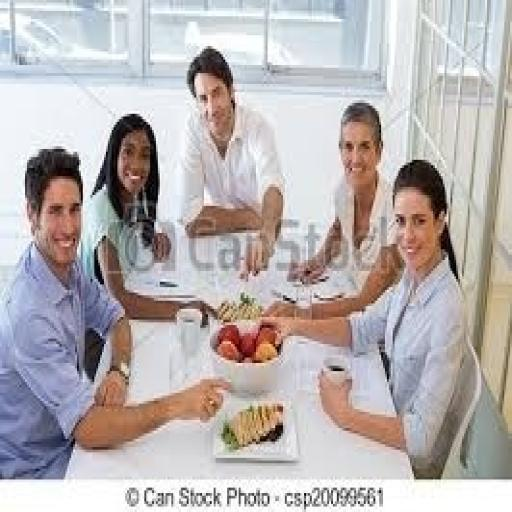eating: (0, 144, 231, 480), (260, 157, 473, 477), (266, 98, 404, 320), (79, 111, 215, 325), (175, 44, 287, 276)
